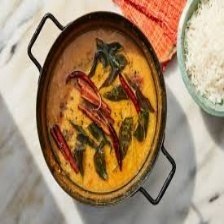rice: (178, 0, 224, 119)
